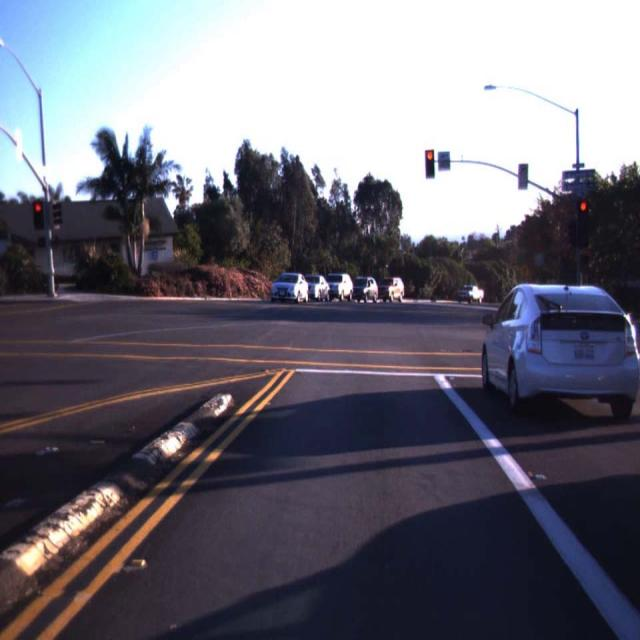kirmizi: (576, 199, 588, 231), (424, 150, 436, 180)
